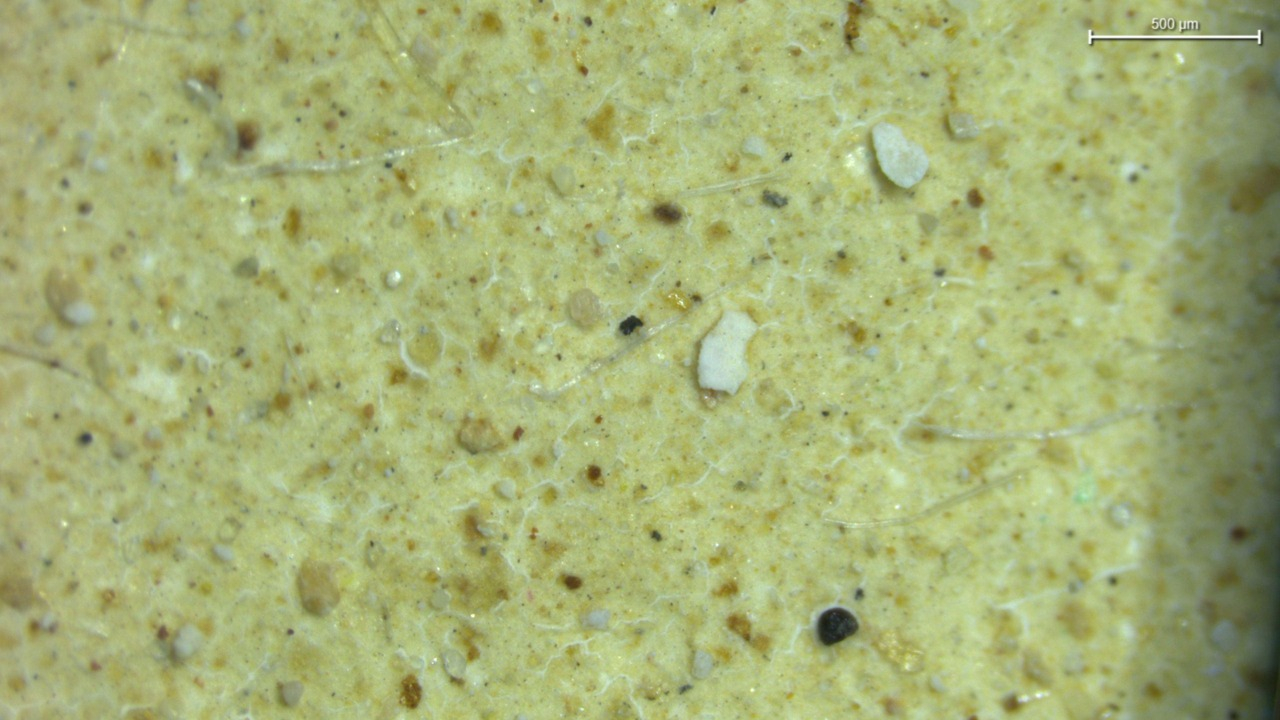microplastic_fragment: (698, 311, 758, 394), (871, 122, 929, 188)
